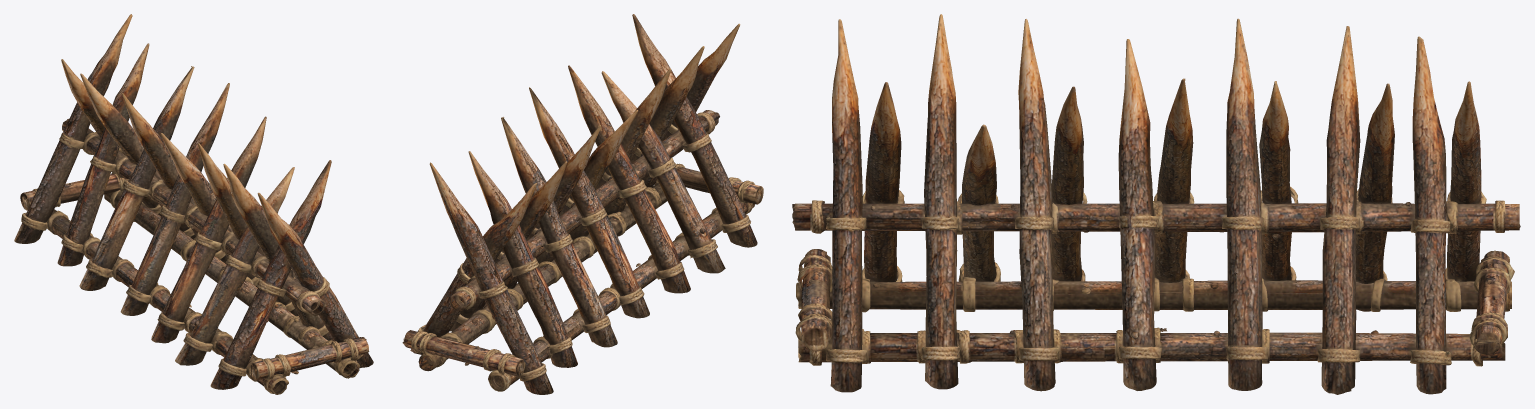
Rendered from SM_RoadSpikes.glb.
The picture shows the model from 3 angles, left to right: view 1: azimuth 30°, elevation 25°; view 2: azimuth 150°, elevation 25°; view 3: azimuth 270°, elevation 25°; orthographic projection. The views are drawn at different scales.
Parts seen in each view (by area): view 1: Object_4; view 2: Object_4; view 3: Object_4.
Part boxes in pixels (bbox=[...]): Object_4: bbox=[14, 14, 373, 394]; Object_4: bbox=[402, 14, 763, 394]; Object_4: bbox=[792, 14, 1520, 394].
Size of the model in its own units: 0.3528 by 0.4491 by 1.
1 material, 1 textured.
